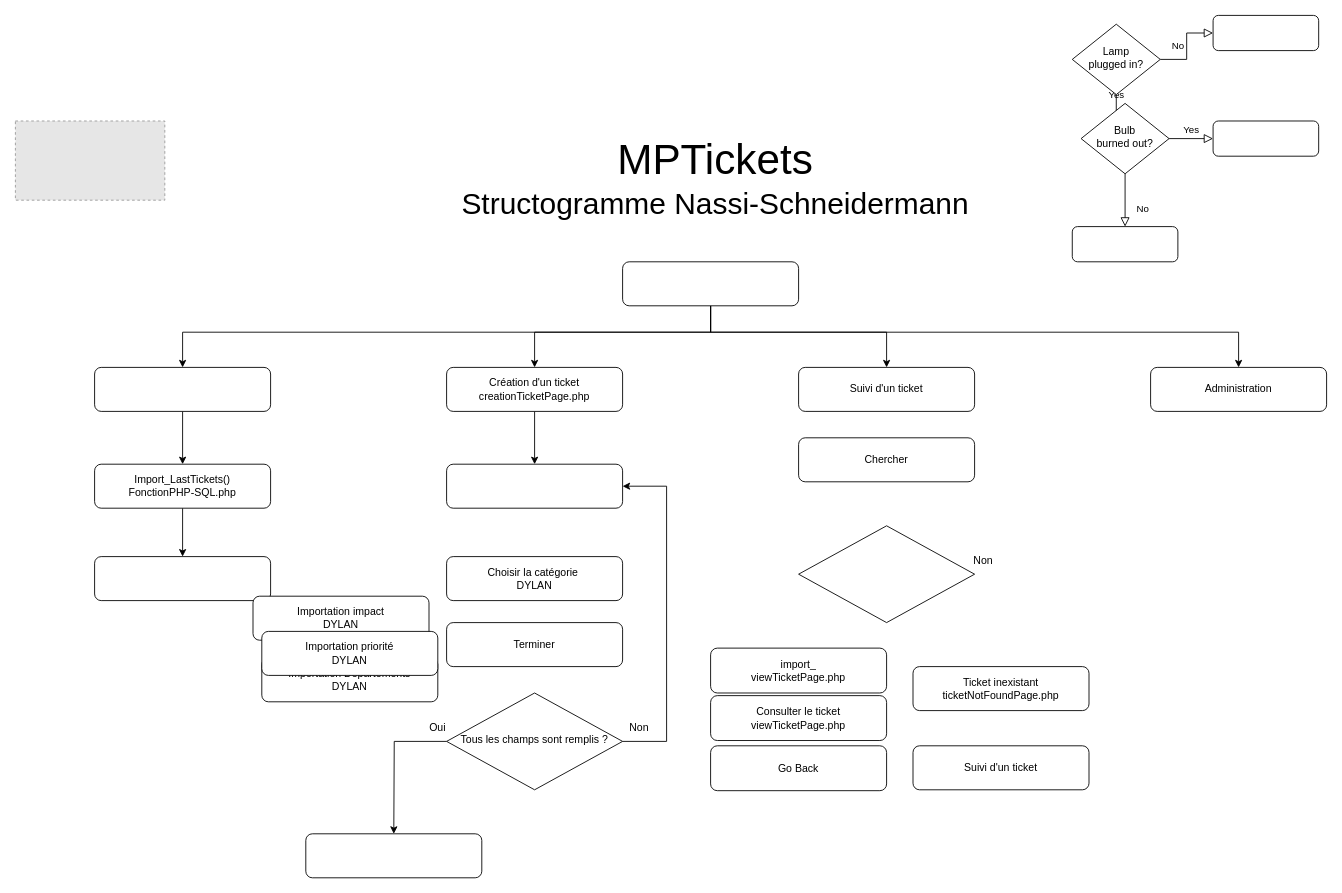
Some shapes in this 1342 by 893 pixel diagram are drawn without their labels. Grey dashed boxes stand in for pictures. The box of each missing label's shape, as (x1, y1, x2, y2) in pixels:
Accès à au Site Web index.php: (622, 261, 799, 306)
Affiche le flux RSS rssIndex.php: (94, 556, 271, 601)
Champ ID ticket rempli ?: (798, 525, 975, 623)
Consulter le Flux RSS: (94, 367, 271, 411)
Plug in lamp: (1212, 15, 1319, 51)
Remplir les champs du formaulire: (446, 463, 623, 508)
Repair Lamp: (1071, 226, 1178, 262)
Replace Bulb: (1212, 120, 1319, 156)
Votre ticket a été ouvert remercimentCreationTicketPage.php: (305, 833, 482, 878)
